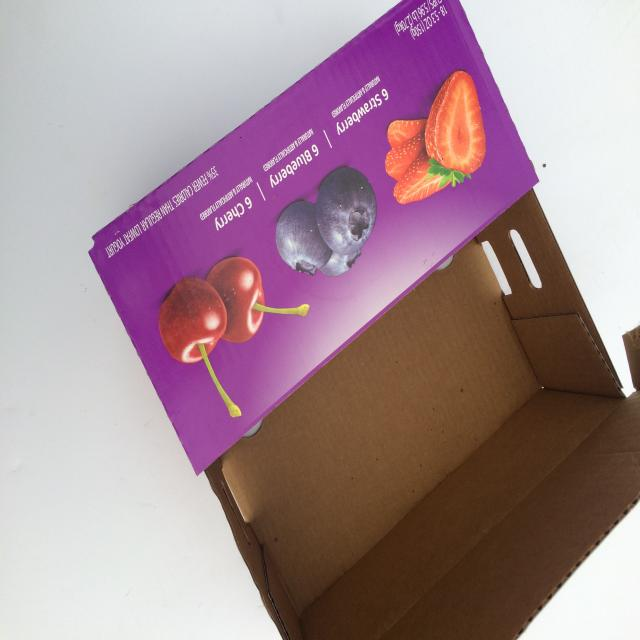cardboard: (70, 25, 640, 639)
